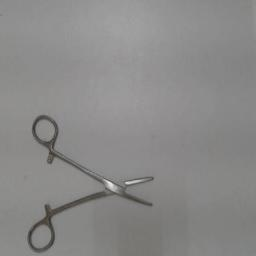Mayo Needle Holder: (24, 110, 162, 254)
